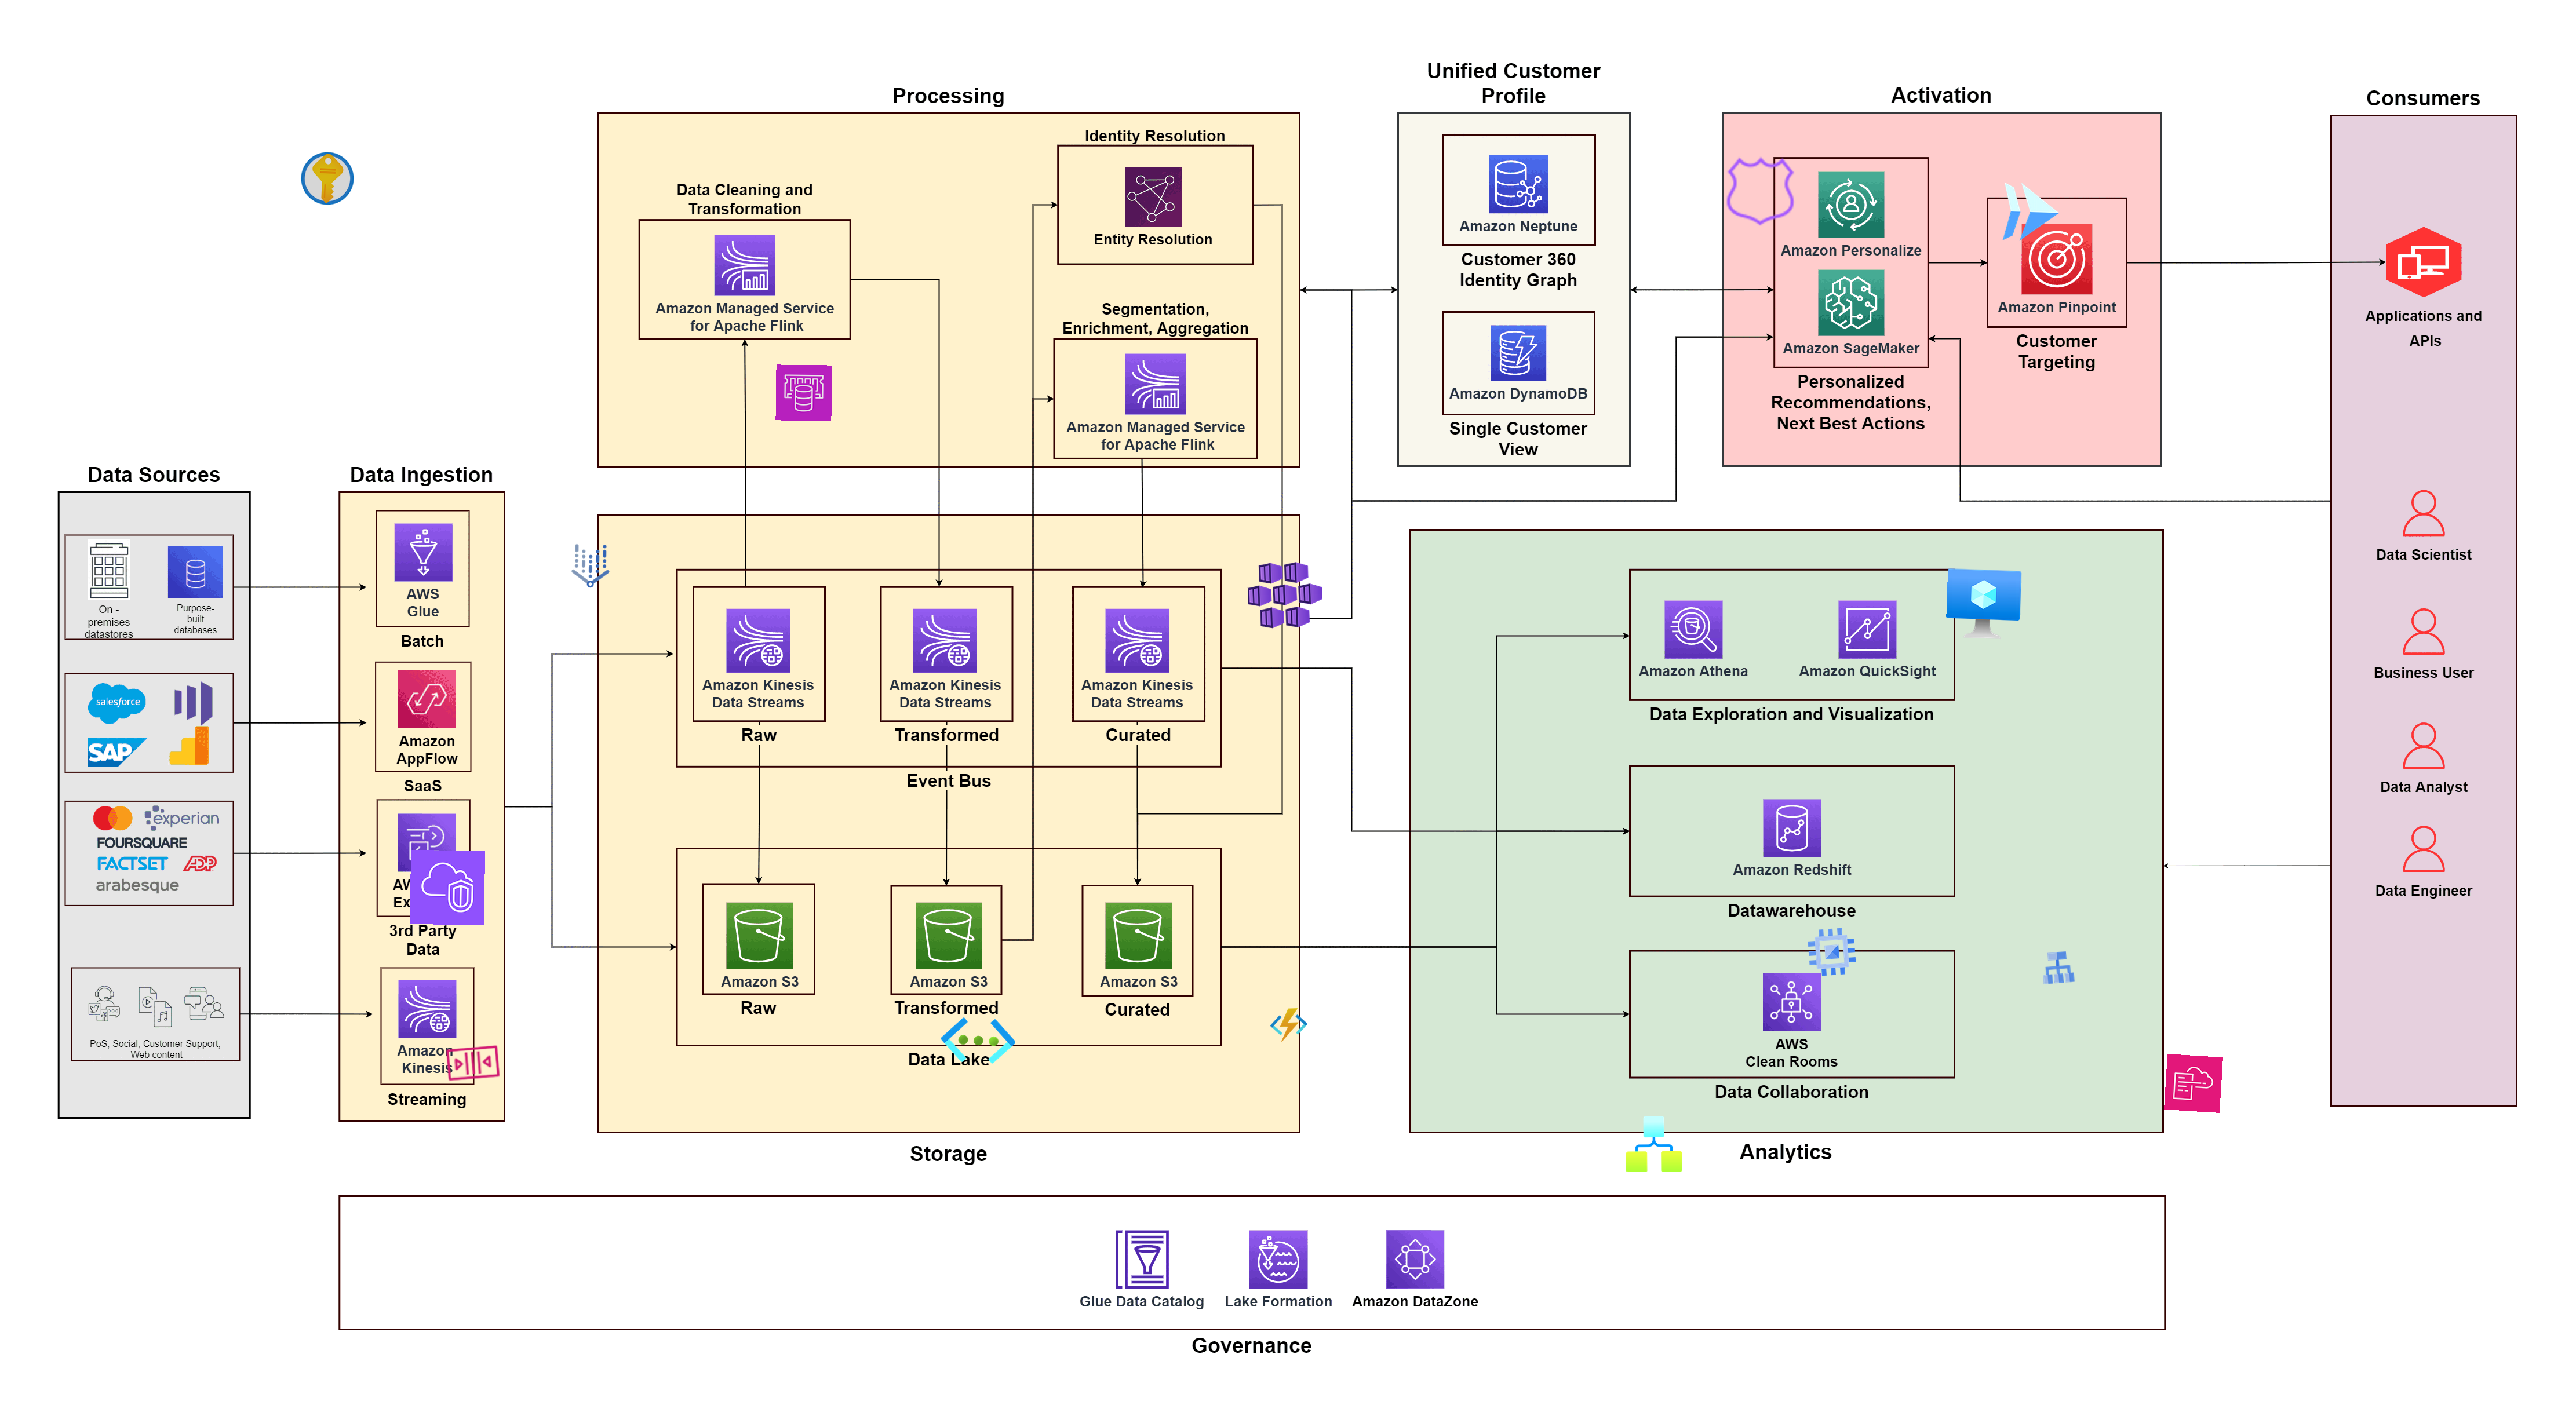aws_amazon_elasticache: (776, 364, 832, 422)
aws_amazon_virtual_private_cloud: (410, 849, 485, 926)
aws_cloudformation: (2164, 1053, 2224, 1113)
aws_route_53_hosted_zone: (1723, 153, 1798, 228)
aws_simple_queue_service_queue: (443, 1032, 502, 1093)
azure_function_apps: (1270, 1004, 1308, 1045)
azure_key_vaults: (298, 148, 358, 208)
azure_kubernetes_services: (1245, 556, 1324, 633)
azure_logic_apps: (1625, 1116, 1683, 1172)
azure_virtual_machine: (1945, 567, 2023, 645)
azure_virtual_networks: (938, 1001, 1017, 1079)
gcp_cloud_load_balancing: (2037, 947, 2079, 987)
gcp_cloud_run: (1992, 174, 2068, 251)
gcp_compute_engine: (1802, 922, 1863, 982)
gcp_vertex_ai: (562, 537, 619, 595)
